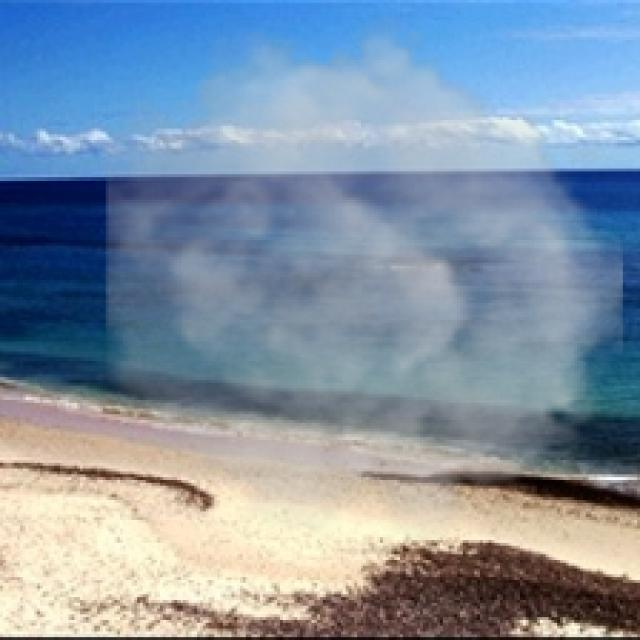Smoke: (106, 11, 623, 546)
